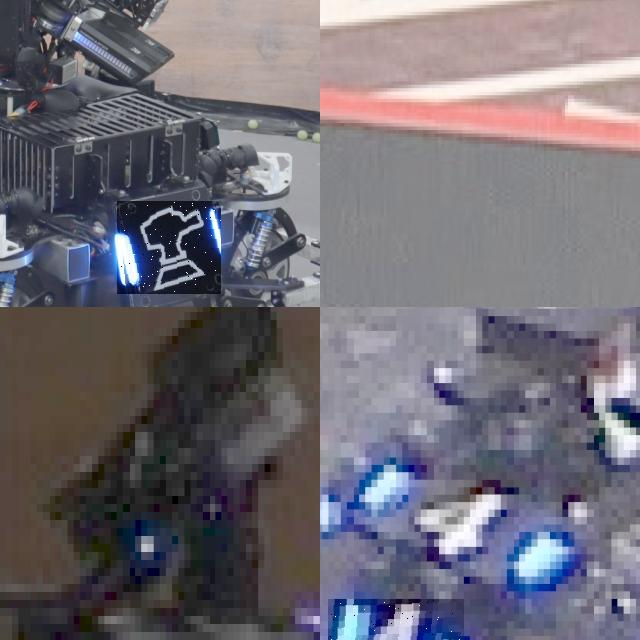B4: (328, 598, 463, 640)
Bs: (117, 201, 221, 294)
